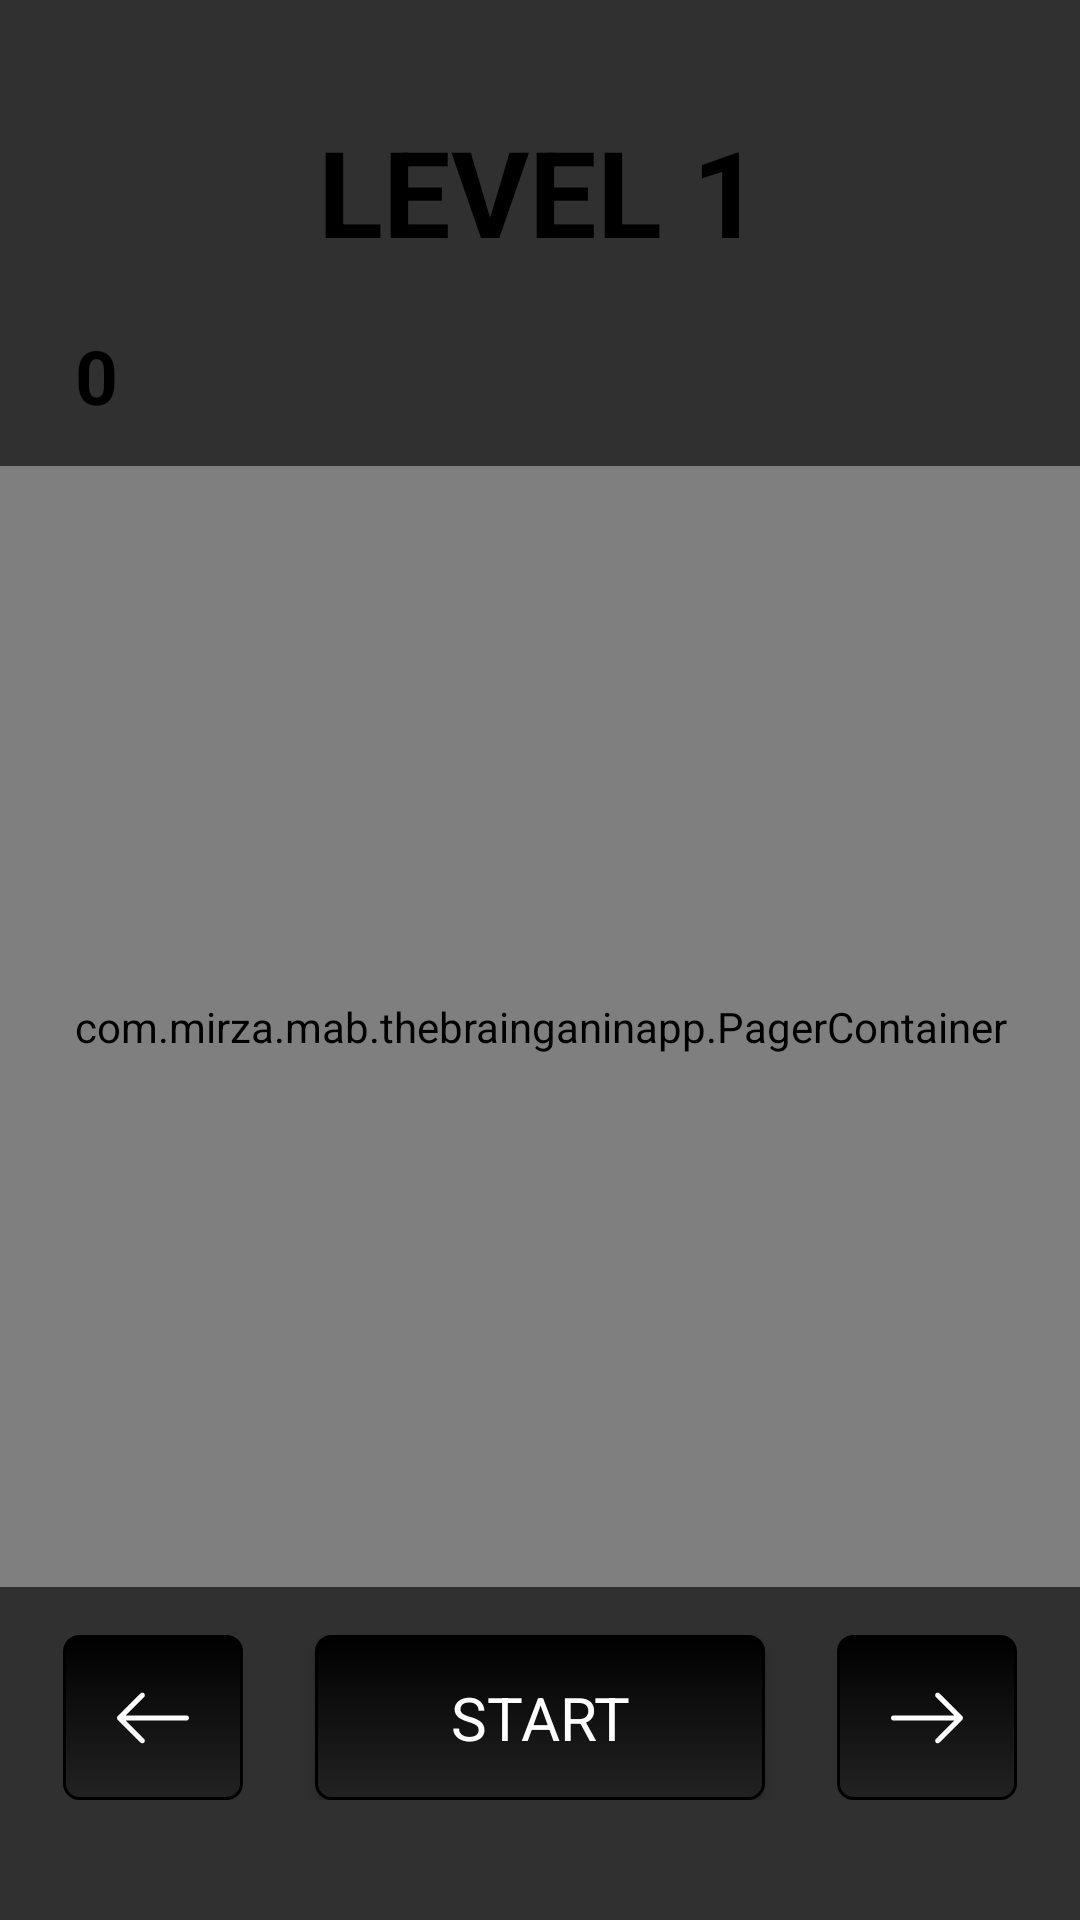

Point at icon controls on the screen. Image size 1080w x 1920h, points as (x,y).
left: (153,1717)
right: (927,1717)
